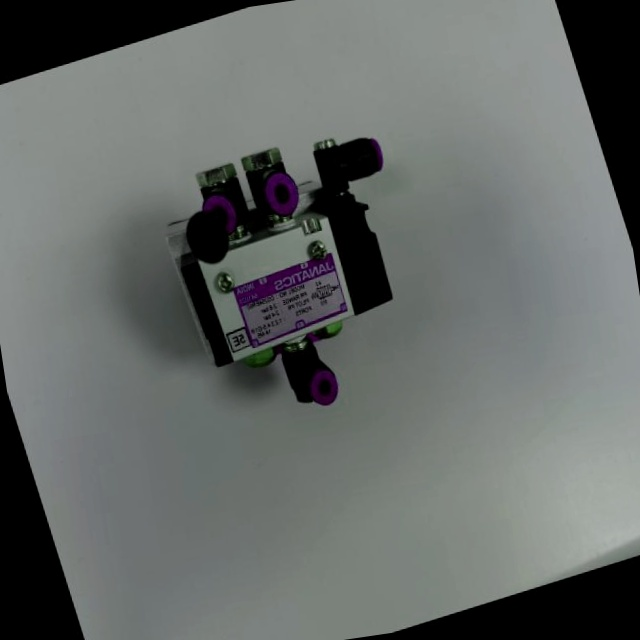5by2 DCV: (127, 87, 467, 457)
